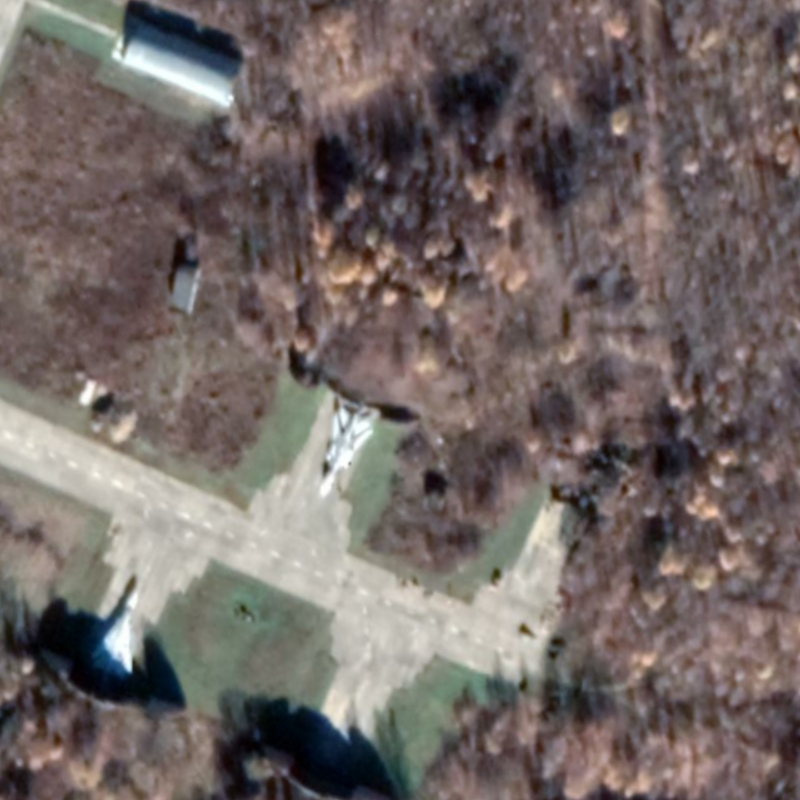A20: (315, 404, 377, 499), (87, 585, 141, 682)
